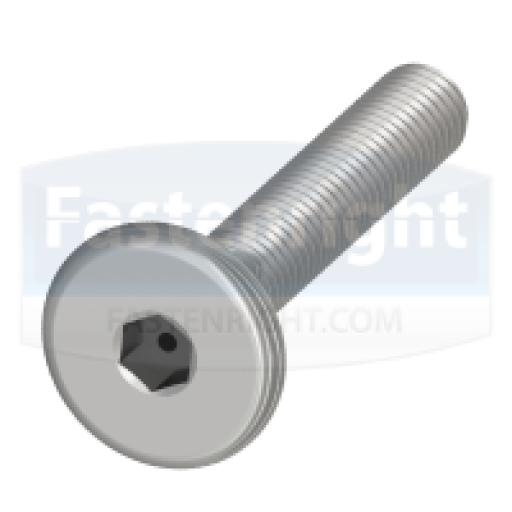Hex-Allen: (38, 222, 283, 472)
